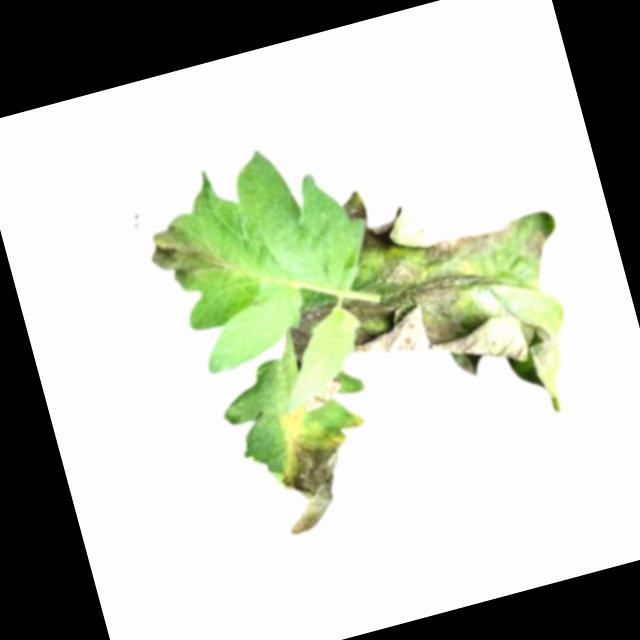Late_blight: (311, 145, 585, 415), (263, 423, 361, 538), (141, 207, 232, 290), (281, 299, 349, 372), (300, 373, 347, 413)
